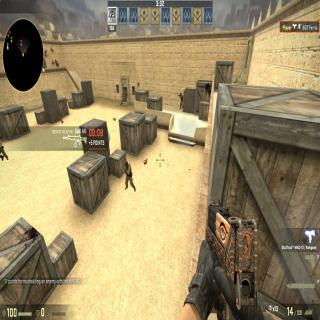CT-Body: (124, 159, 132, 189), (179, 92, 183, 109)
CT-Head: (125, 160, 128, 168), (179, 92, 182, 96)
